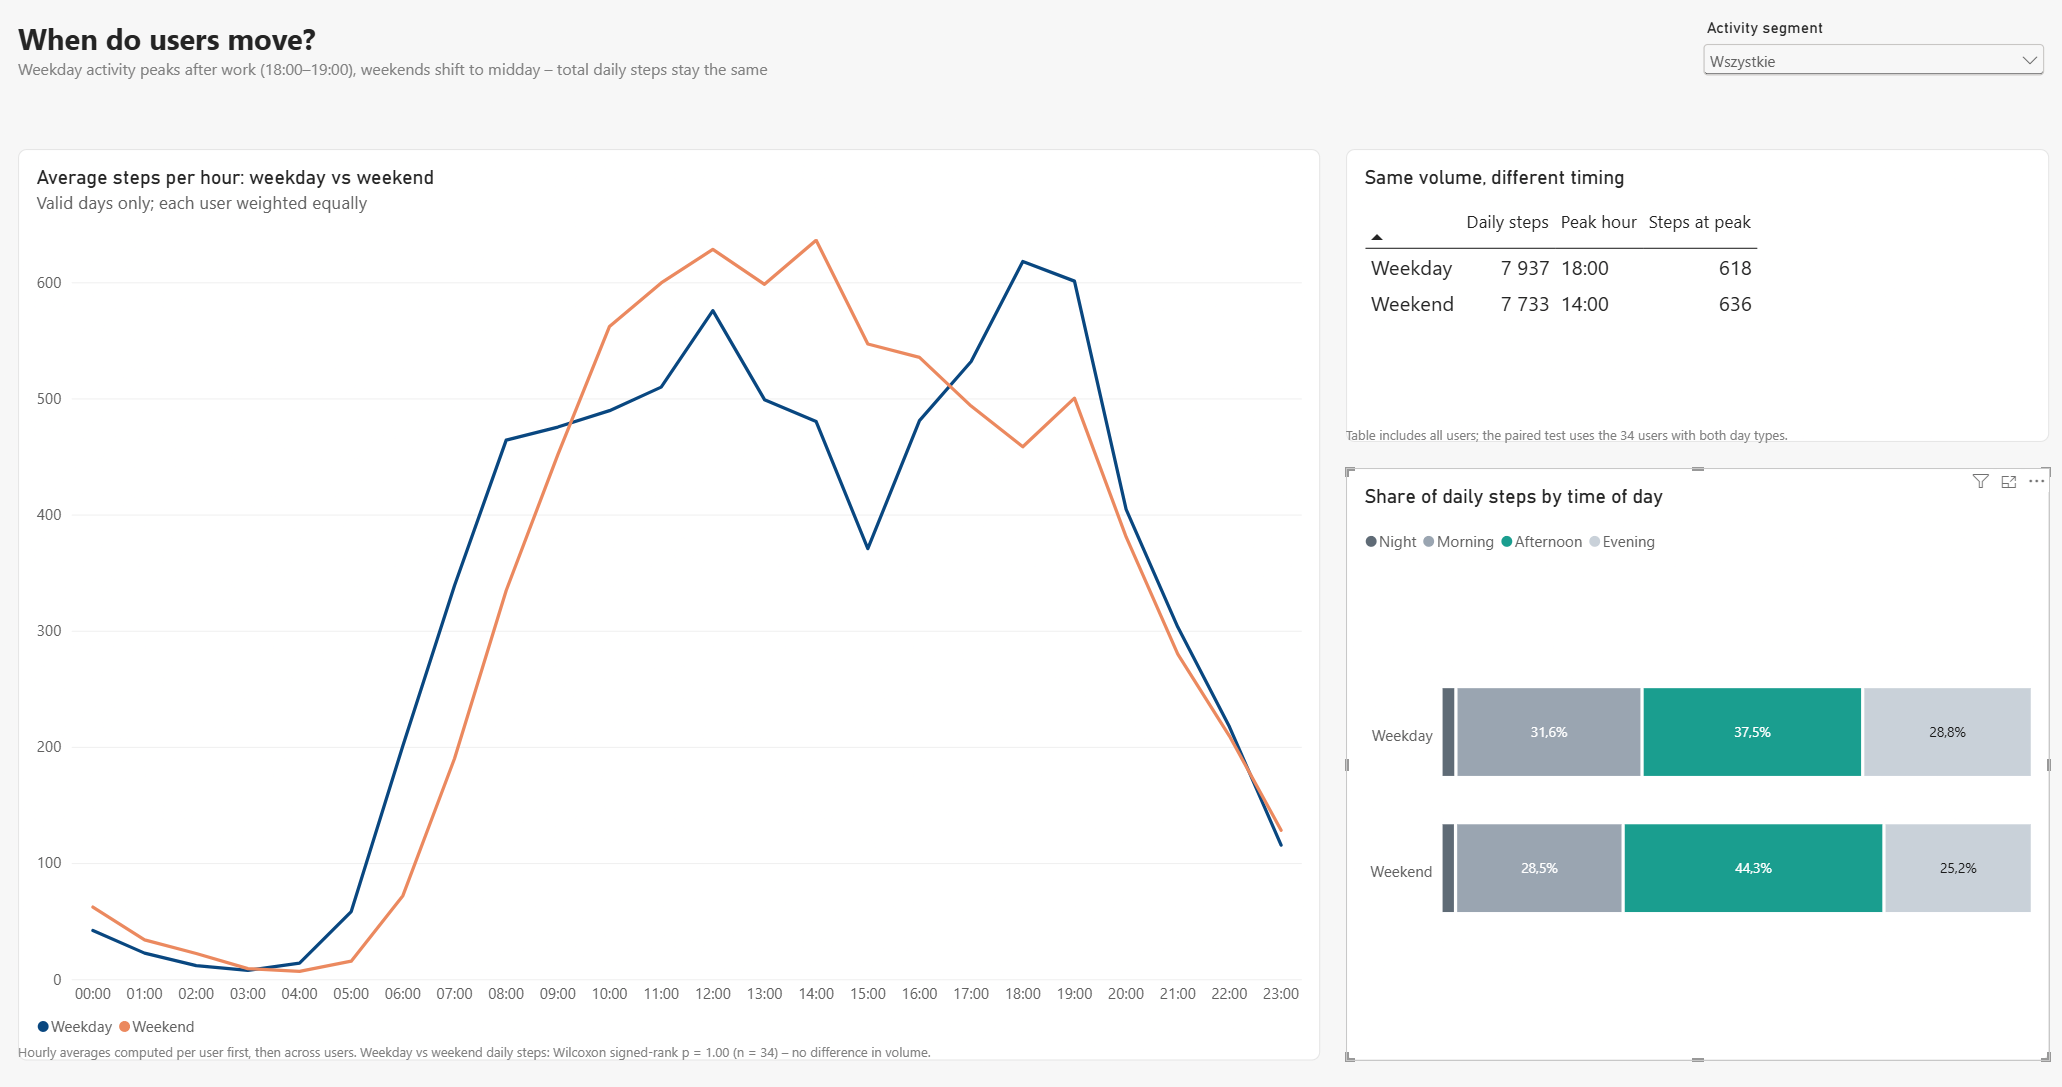

What the dashboard file says about the page in this screenshot:
{"tool":"powerbi","page":{"name":"Daily rhythm","canvas":[1920,1080],"ordinal":1},"visuals":[{"type":"textbox","title":"Title","box":[24,24,1350,96],"z":0},{"type":"slicer","title":"Fragmentator","fields":{"Values":["dim_user.activity_segment"]},"box":[1572,24,324,96],"z":1000},{"type":"lineChart","title":"Average steps per hour: weekday vs weekend","fields":{"Category":["dim_hour.hour_label"],"Series":["dim_date.Day type"],"Y":["_Measures.Avg steps per hour"]},"box":[24,144,1200,840],"z":2000},{"type":"tableEx","title":"Same volume, different timing","fields":{"Values":["dim_date.Day type","_Measures.Avg daily steps per user","_Measures.Peak hour","_Measures.Peak hour steps"]},"box":[1247.6,143.8,648,270],"z":3000},{"type":"barChart","title":"Share of daily steps by time of day","fields":{"Category":["dim_date.Day type"],"Series":["dim_hour.day_part"],"Y":["_Measures.Day part share"]},"box":[1248,438,648,546],"z":3001},{"type":"textbox","title":"Note 2","box":[24,966,1200,60],"z":3002},{"type":"textbox","title":"Note 1","box":[1247.6,397.4,419.8,32.1],"z":3003}]}

Visuals, with their boxes on the page's 1920x1080 design canvas (x1, y1, x2, y2). These are canvas units, not pixel positions in the 2062x1087 screenshot, which may show the page scaled, cropped or inside an application window:
"Title" textbox: [24, 24, 1374, 120]
"Fragmentator" slicer: [1572, 24, 1896, 120]
"Average steps per hour: weekday vs weekend" lineChart: [24, 144, 1224, 984]
"Same volume, different timing" tableEx: [1248, 144, 1896, 414]
"Share of daily steps by time of day" barChart: [1248, 438, 1896, 984]
"Note 2" textbox: [24, 966, 1224, 1026]
"Note 1" textbox: [1248, 397, 1667, 430]
